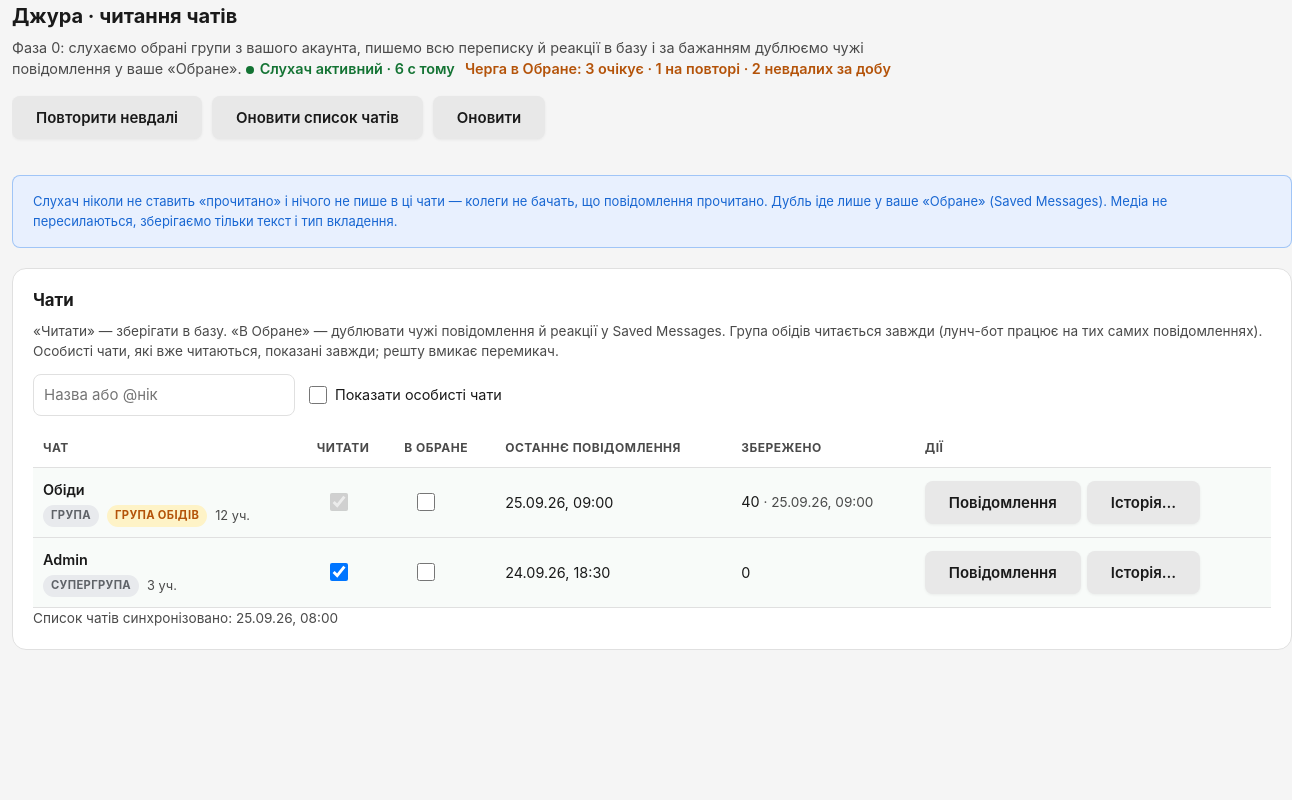
Test: DzhuraTab › черга дублів: статистика і «Повторити невдалі»
Expected: the text "Черга в Обране: 3 очікує · 1 на повторі · 2 невдалих за добу" is shown, [465,59,891,80]
Click the button "Повторити невдалі" at (107, 118), box [12,96,202,139]
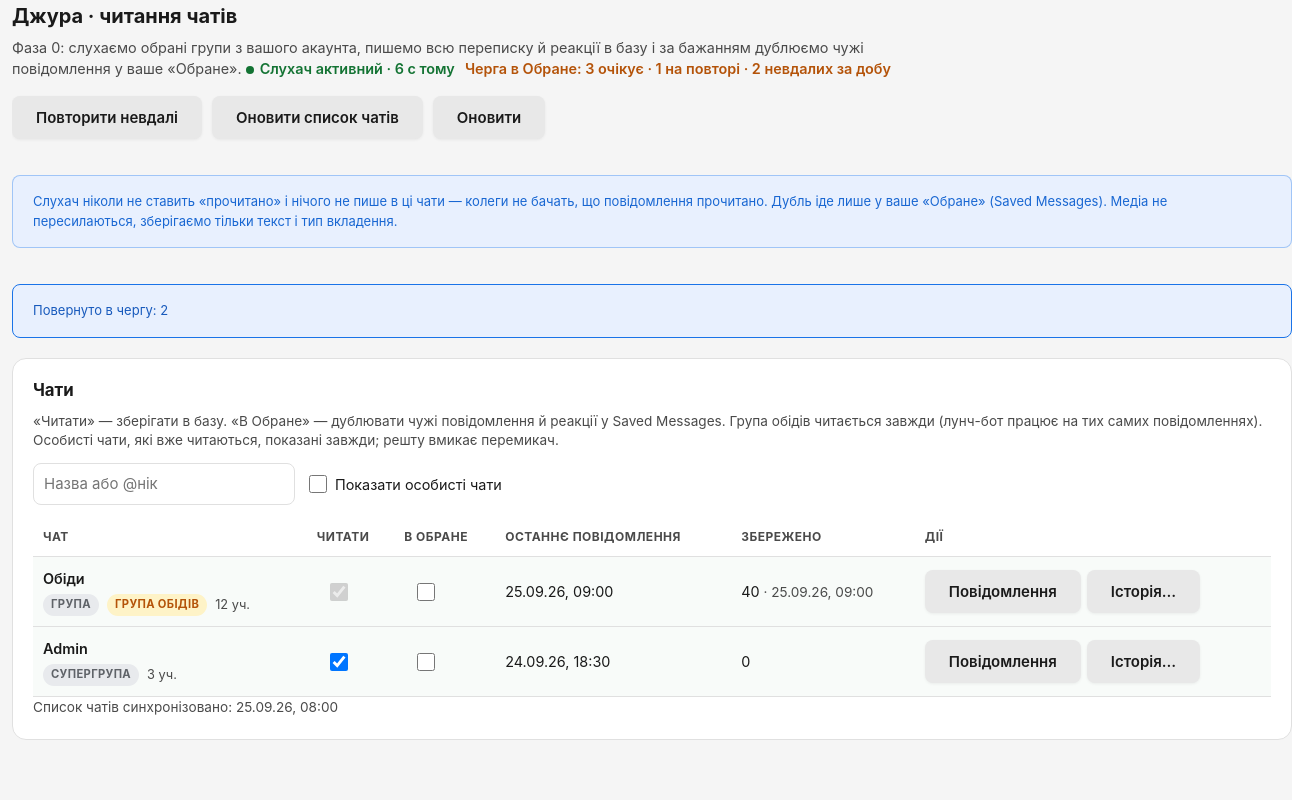
Expected: the text "Повернуто в чергу: 2" is shown, [12,284,1291,338]
